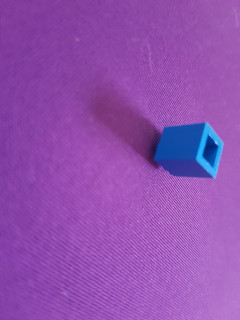1x1 blue: (151, 120, 226, 182)
